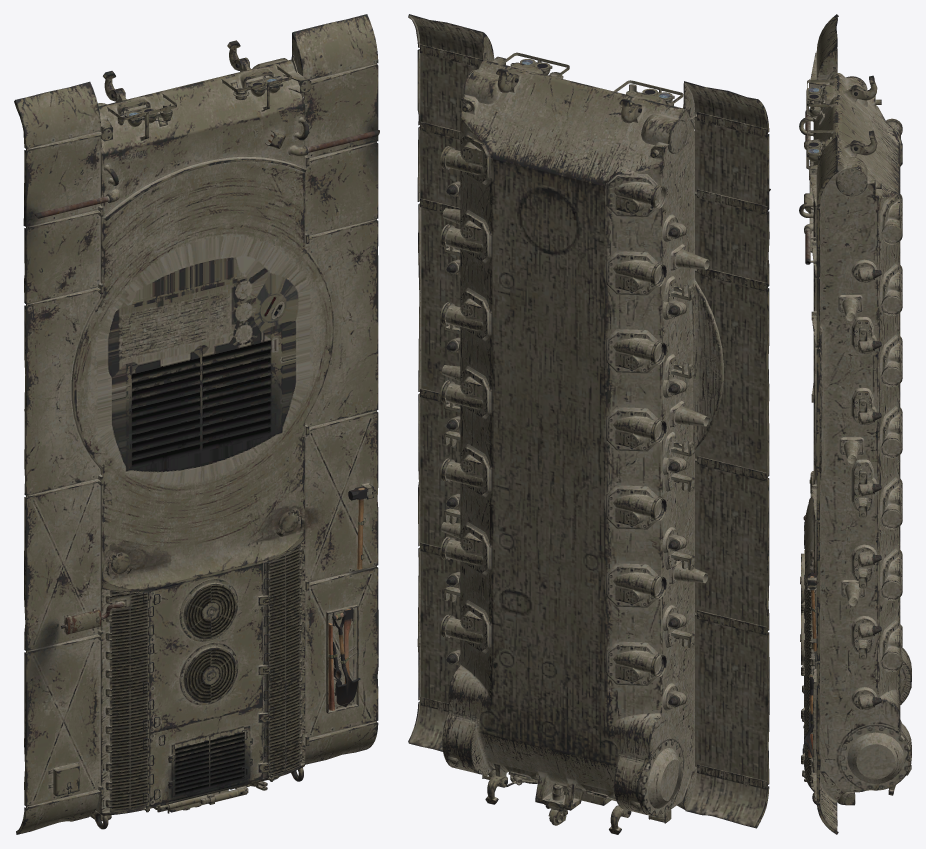
Rendered from Hull.glb.
The picture shows the model from 3 angles, left to right: view 1: azimuth 30°, elevation 25°; view 2: azimuth 150°, elevation 25°; view 3: azimuth 270°, elevation 25°; orthographic projection. The views are drawn at different scales.
Visible parts, largest first — view 1: set_0_group_0; view 2: set_0_group_0; view 3: set_0_group_0.
Boxes of the visible parts, x1,y1,x2,y2 form: set_0_group_0: [14, 14, 379, 834]; set_0_group_0: [408, 14, 770, 834]; set_0_group_0: [799, 14, 911, 834].
Size of the model in its own units: 3.58 by 7.29 by 1.09.
1 material, 1 textured.
